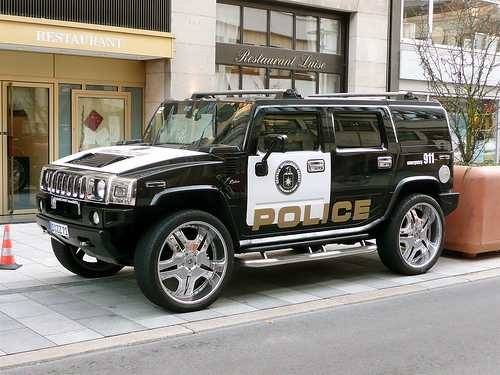Police Car: (40, 80, 472, 311)
